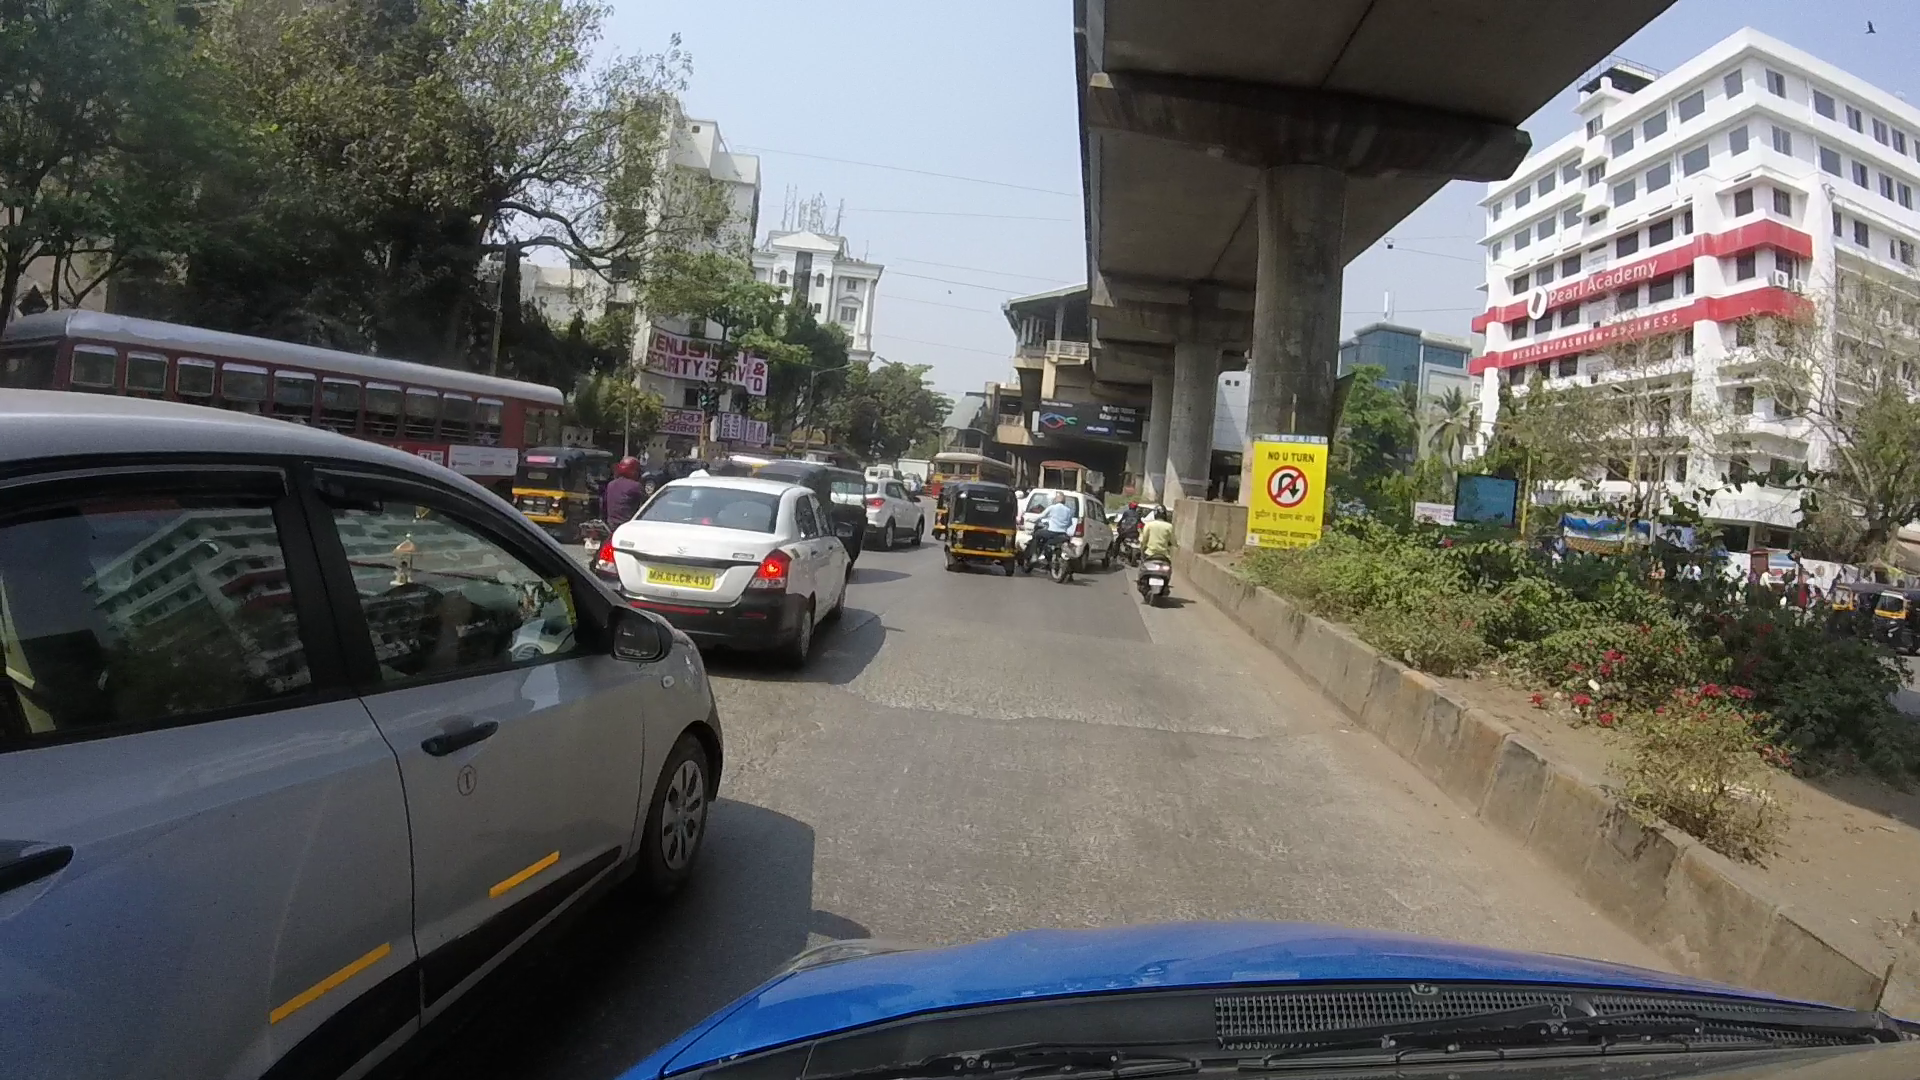bike/scooter: (1130, 506, 1180, 616), (1036, 502, 1083, 572)
bus: (3, 297, 568, 444), (922, 444, 1011, 493)
car: (3, 390, 719, 1080), (603, 458, 855, 670), (861, 473, 936, 549)
rickshaw: (762, 454, 872, 554), (512, 427, 607, 535), (945, 477, 1021, 582)
truck: (1033, 452, 1093, 495)
